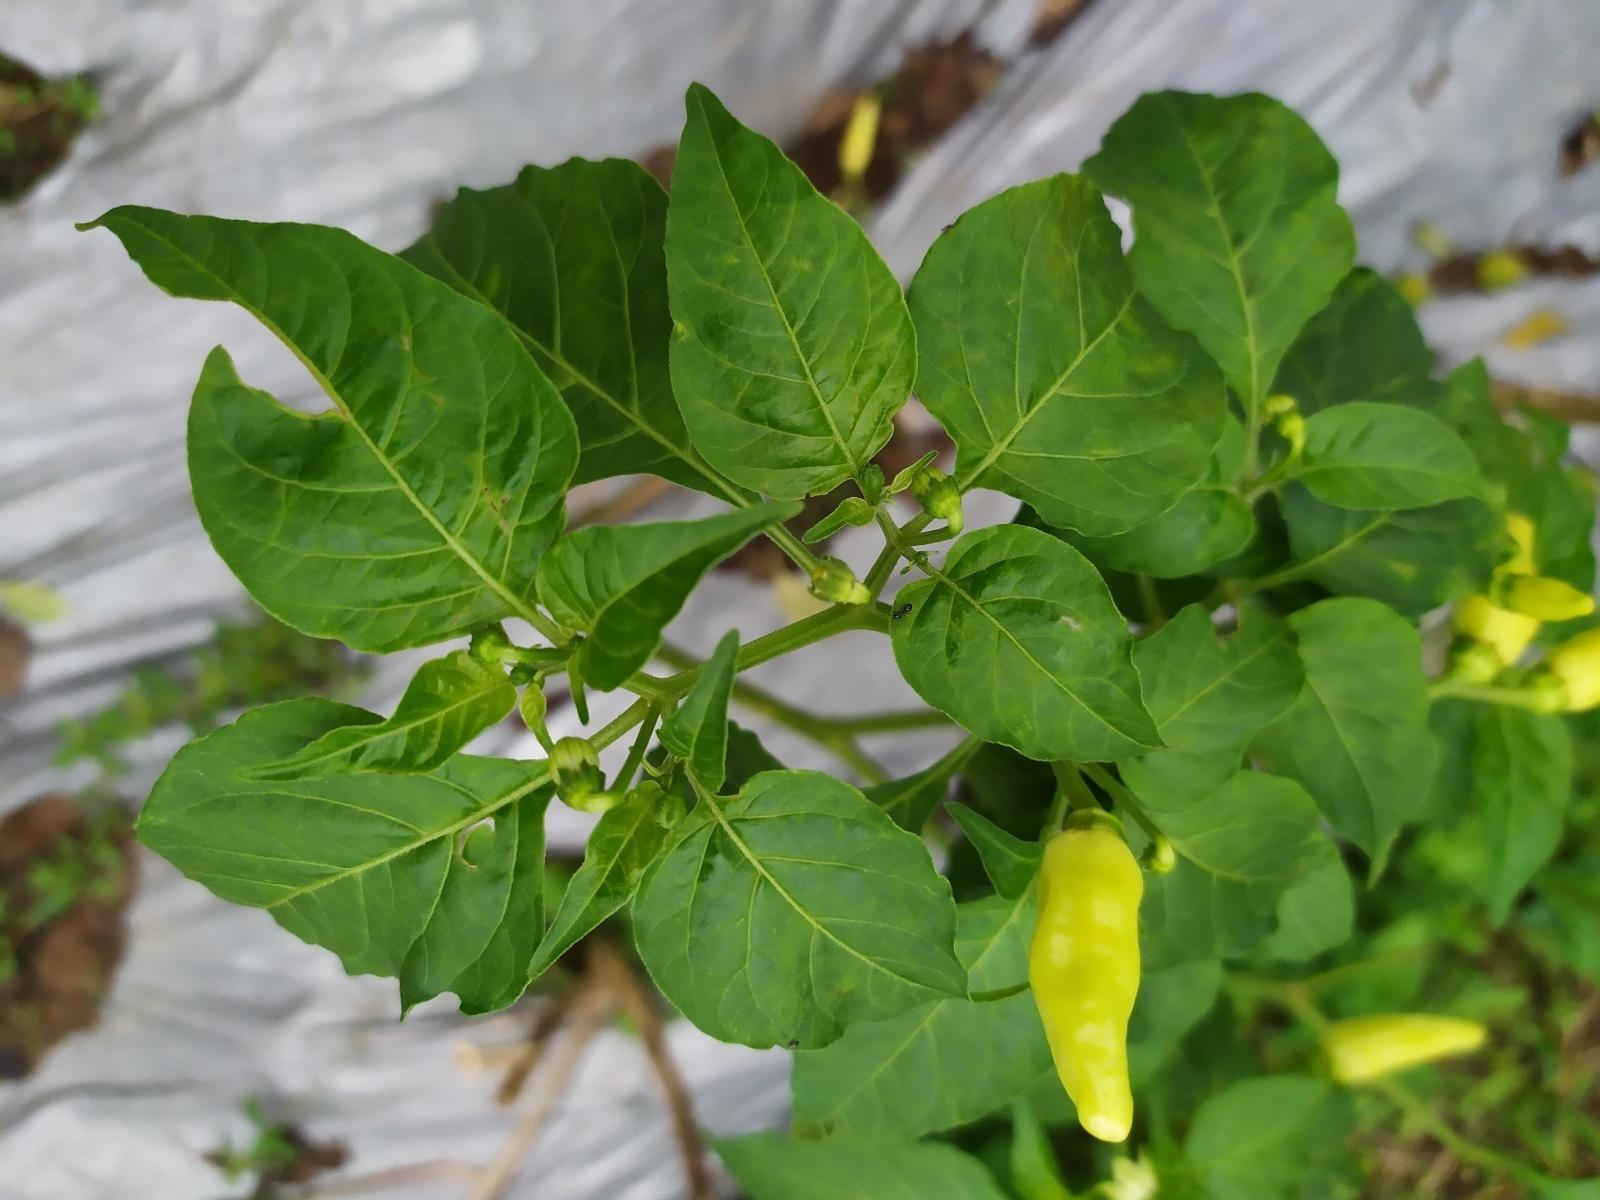cabai_normal: (1027, 811, 1145, 1145), (1310, 1008, 1485, 1085)
